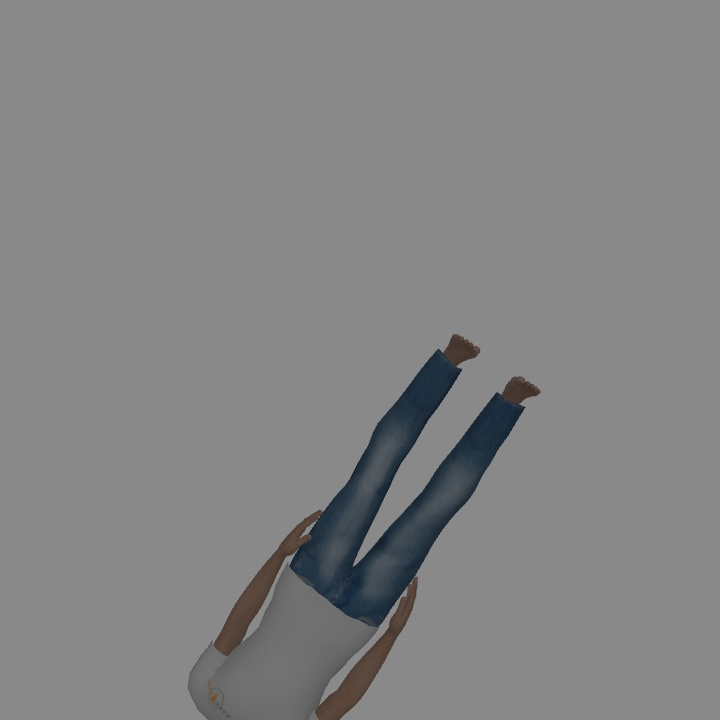victim: (195, 336, 536, 718)
